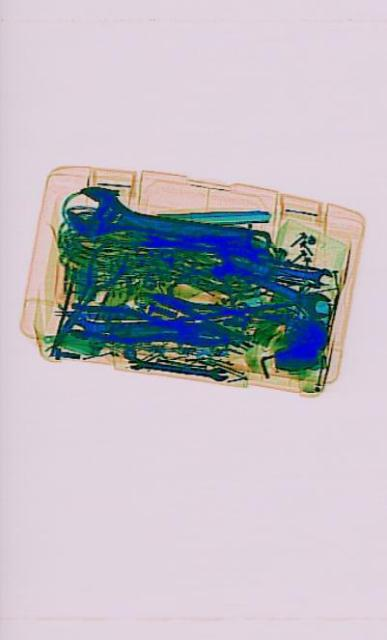Pliers: (43, 224, 130, 358)
Wrench: (63, 180, 270, 268), (208, 247, 328, 321), (127, 354, 226, 381), (70, 316, 171, 339), (270, 256, 332, 290)
